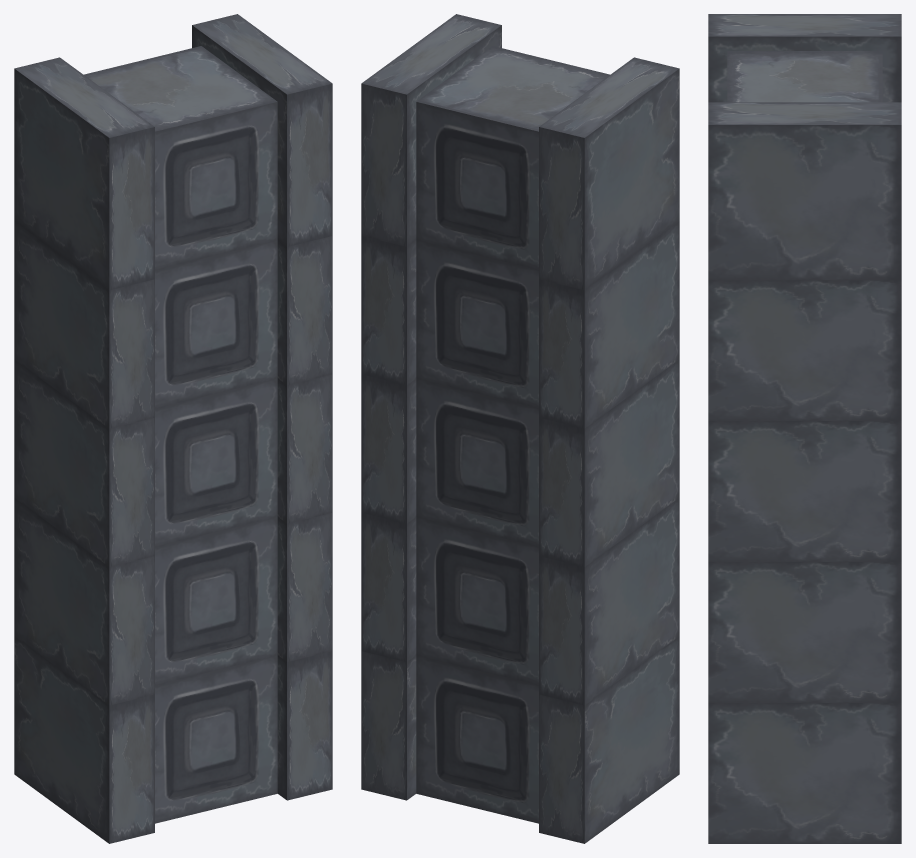
Rendered from Castle Deco Pilar 5.fbx.
The picture shows the model from 3 angles, left to right: view 1: azimuth 30°, elevation 25°; view 2: azimuth 150°, elevation 25°; view 3: azimuth 270°, elevation 25°; orthographic projection.
Visible parts, largest first — view 1: Castle Deco Pilar 5; view 2: Castle Deco Pilar 5; view 3: Castle Deco Pilar 5.
Part boxes in pixels (x1,y1,x2,y2): Castle Deco Pilar 5: (14, 14, 332, 843); Castle Deco Pilar 5: (361, 14, 679, 843); Castle Deco Pilar 5: (708, 14, 901, 843).
Size of the model in its own units: 1.27 by 3.83 by 0.9335.
